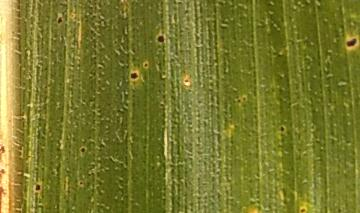tarspot: (30, 180, 45, 193), (345, 35, 358, 50), (153, 33, 168, 44), (128, 71, 141, 83), (54, 13, 64, 26), (78, 144, 88, 155), (277, 124, 287, 133), (296, 207, 311, 213), (141, 61, 151, 68)
